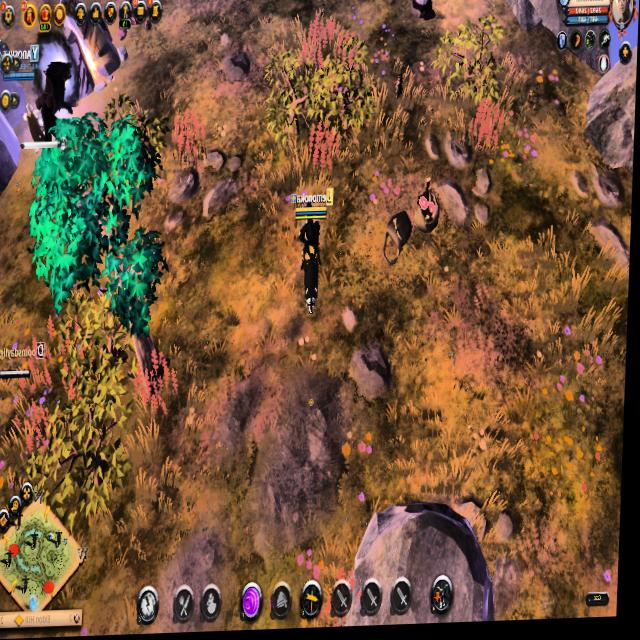wood tier 3: (24, 116, 174, 347)
